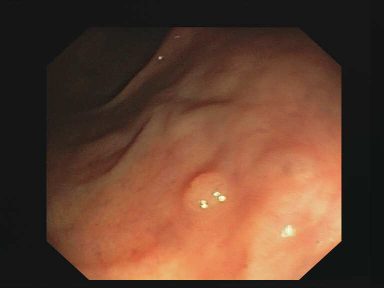polyp: (160, 161, 261, 233)
